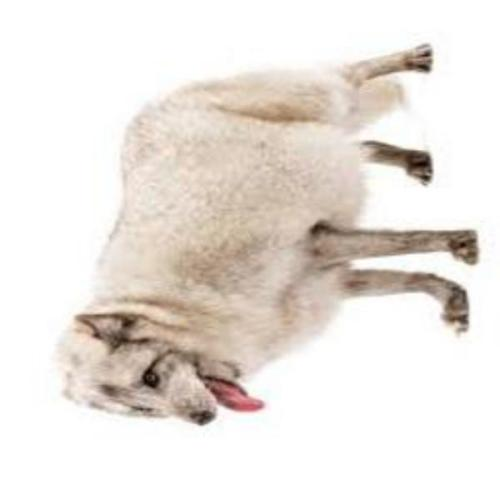arctic_fox-endangered: (55, 42, 480, 428)
